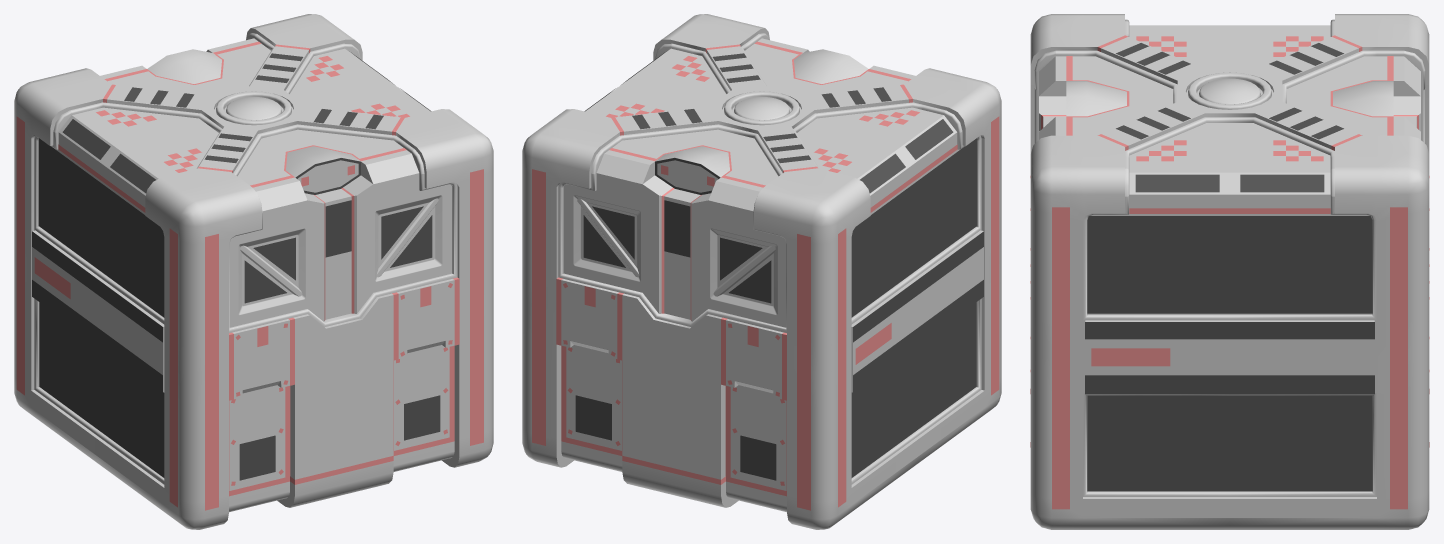
Rendered from Container.fbx.
3 renders of one model, left to right at view 1: azimuth 30°, elevation 25°; view 2: azimuth 150°, elevation 25°; view 3: azimuth 270°, elevation 25°, orthographic. The views are drawn at different scales.
Visible parts, largest first — view 1: Kontainer; view 2: Kontainer; view 3: Kontainer.
Part boxes in pixels (box(x1,y1,x2,y2)): Kontainer: box(14, 14, 493, 529); Kontainer: box(522, 14, 1001, 529); Kontainer: box(1030, 14, 1429, 529).
Bounding box in the file's own units: 190 × 193 × 190.
